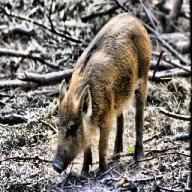boar: (51, 11, 152, 175)
